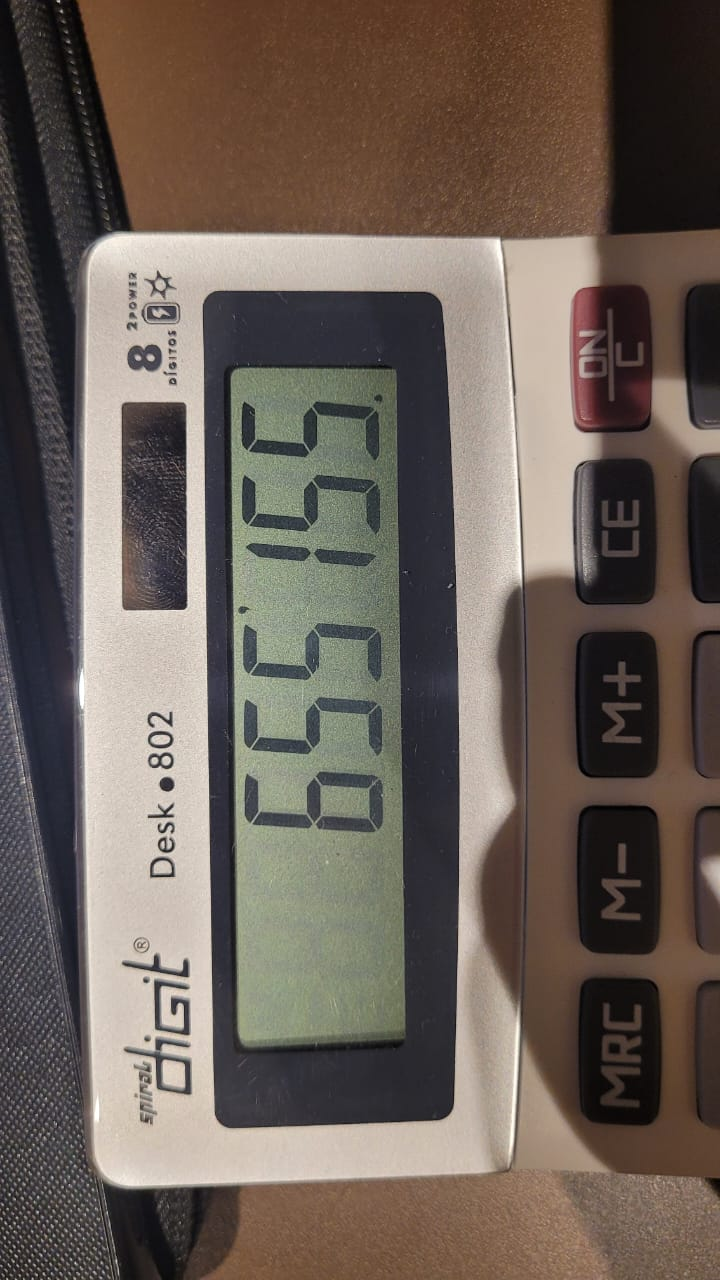display: (219, 357, 418, 1064)
